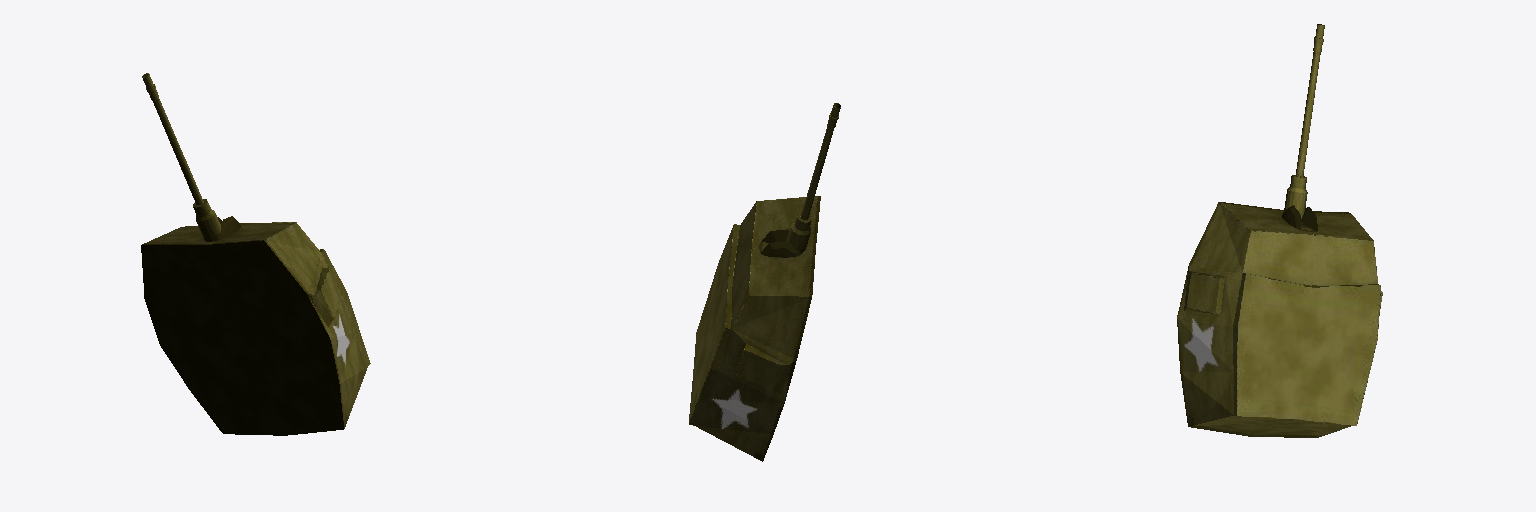
3 views of the same model, side by side, from view 1: azimuth 30°, elevation 25°; view 2: azimuth 150°, elevation 25°; view 3: azimuth 270°, elevation 25° (orthographic).
Visible parts, largest first — view 1: TurretGood, GunGood; view 2: TurretGood, GunGood; view 3: TurretGood, GunGood.
Boxes of the visible parts, <box> form: TurretGood: <box>141,216,370,435</box>; GunGood: <box>142,73,220,241</box>; TurretGood: <box>689,196,820,461</box>; GunGood: <box>787,103,840,253</box>; TurretGood: <box>1177,202,1382,437</box>; GunGood: <box>1284,24,1324,218</box>.
Size of the model in its own units: 1.62 by 3.13 by 1.55.
1 materials, 1 textured.